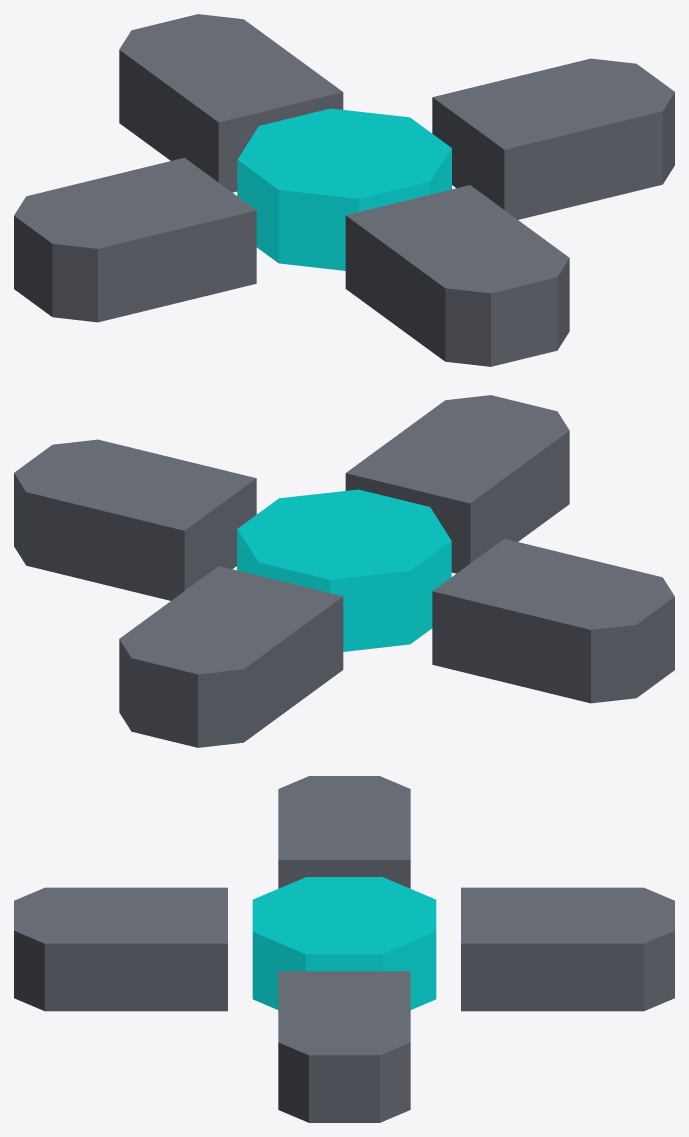
The model's file is silver_pharaoh.gltf.
The picture shows the model from 3 angles, top to bottom: view 1: azimuth 30°, elevation 25°; view 2: azimuth 150°, elevation 25°; view 3: azimuth 270°, elevation 25°; orthographic projection. The views are drawn at different scales.
Visible parts, largest first — view 1: icon_pharaoh_silver; view 2: icon_pharaoh_silver; view 3: icon_pharaoh_silver.
Part boxes in pixels (x1,y1,x2,y2): icon_pharaoh_silver: (14,14,674,366); icon_pharaoh_silver: (14,395,674,747); icon_pharaoh_silver: (14,776,674,1122).
Size of the model in its own units: 1.77 by 0.2 by 1.77.
Materials: 2 (2 with a texture image).
